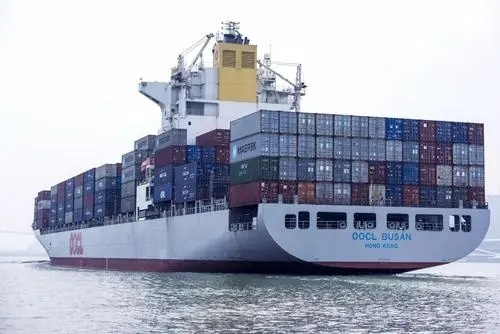Cargoship: (27, 19, 500, 268)
